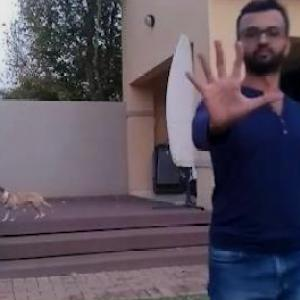follow_hand: (181, 33, 285, 134)
